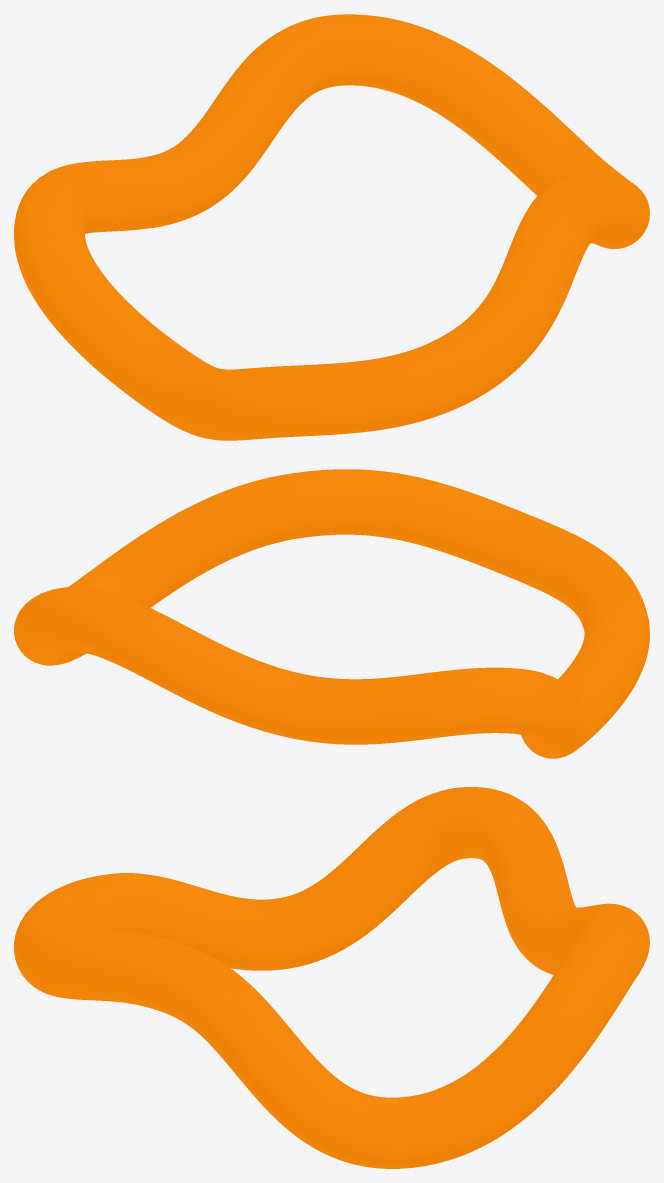
File: testp.glb
3 renders of one model, top to bottom at view 1: azimuth 30°, elevation 25°; view 2: azimuth 150°, elevation 25°; view 3: azimuth 270°, elevation 25°, orthographic. The views are drawn at different scales.
Parts seen in each view (by area): view 1: BezierCircle.003_4; view 2: BezierCircle.003_4; view 3: BezierCircle.003_4.
Part boxes in pixels (x1,y1,x2,y2): BezierCircle.003_4: (14,14,649,440); BezierCircle.003_4: (14,469,649,758); BezierCircle.003_4: (14,787,649,1168).
Size of the model in its own units: 132 by 43.78 by 125.
